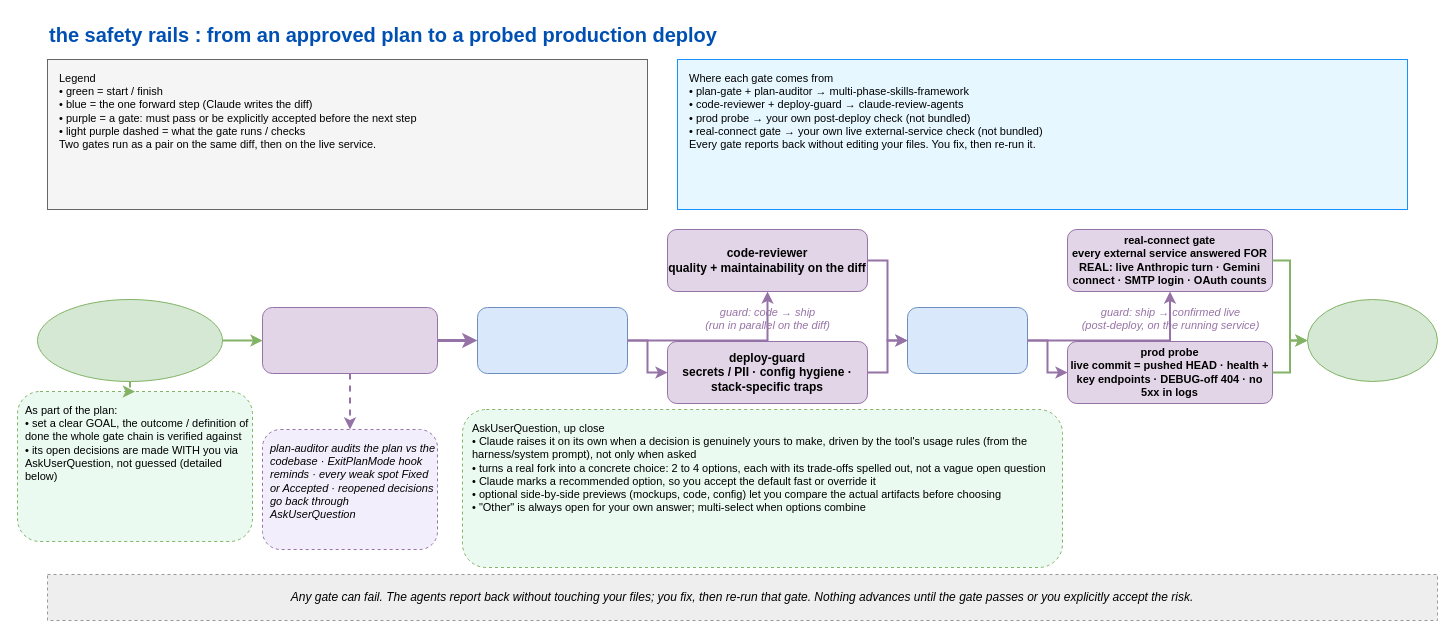
Some shapes in this 1455 by 638 pixel diagram are drawn without their labels. Each missing label, with the centre of its shape:
"an approved, WRITTEN plan (plan mode → ExitPlanMode)" belongs at point 129,340.
"implement Claude writes the diff (tdd optional)" belongs at point 552,340.
"plan-gate guard: plan → code" belongs at point 350,340.
"ship / deploy (/release)" belongs at point 967,340.
"verified live in production" belongs at point 1372,340.
